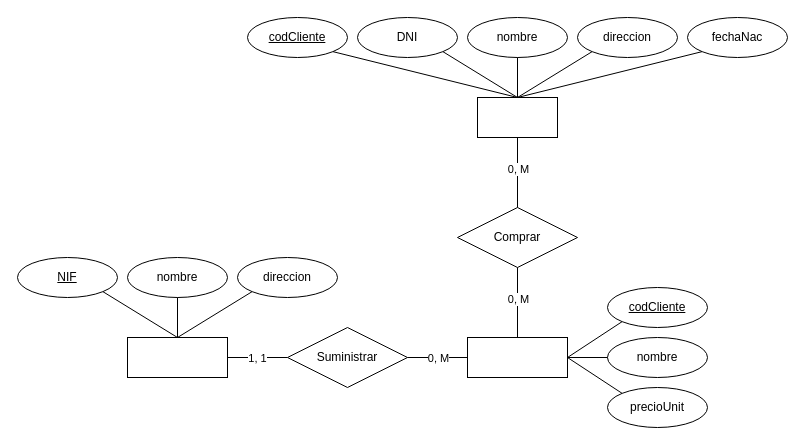
Some shapes in this 805 by 445 pixel diagram are drawn without their labels. The shapes that lost their labels are listed below. From the top down, each one's centre as x and y in pixels, then its label:
point 517,117: CLIENTE
point 177,357: PROVEEDOR
point 517,357: PRODUCTO
